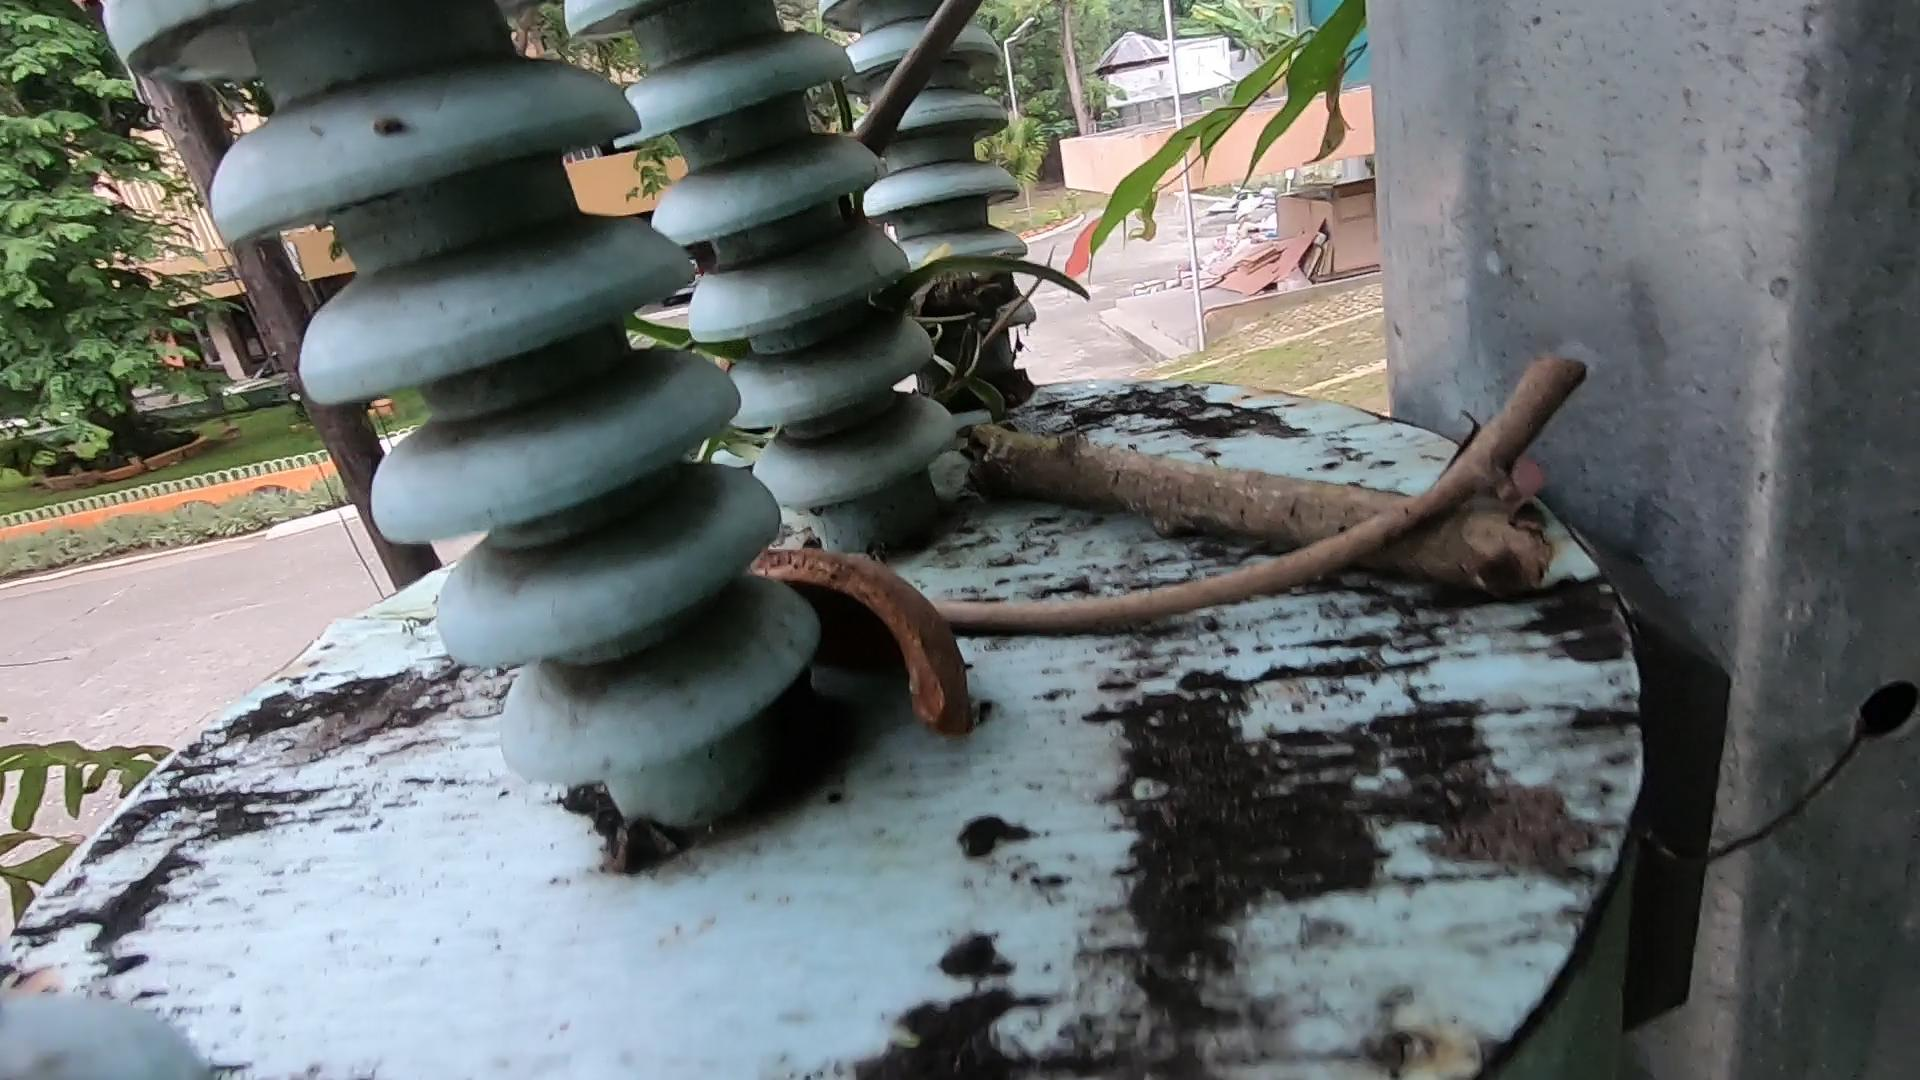branch with leaves: (812, 266, 1557, 638)
leaf: (1425, 404, 1563, 521)
mahogany fruit: (781, 567, 1201, 800)
tree branch: (910, 313, 1629, 692), (818, 1, 1048, 248)
